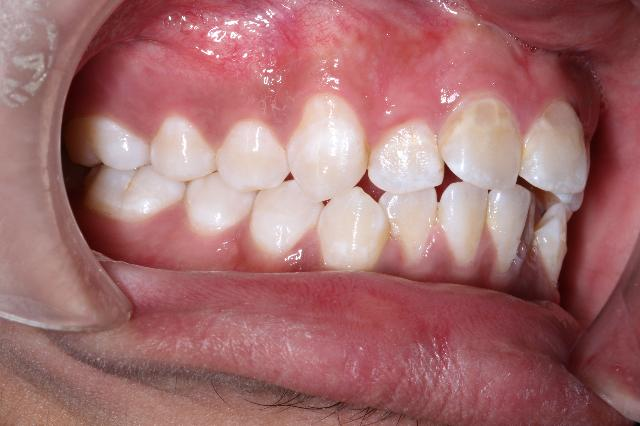canine class III 1/4: (251, 85, 391, 281)
molar class III 1/2: (61, 116, 187, 232)
